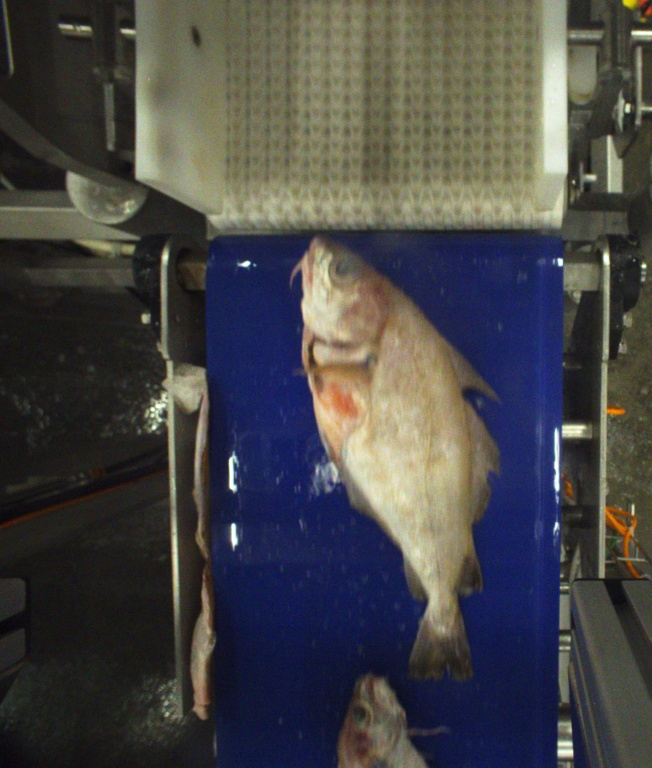BIB: (329, 666, 440, 768)
